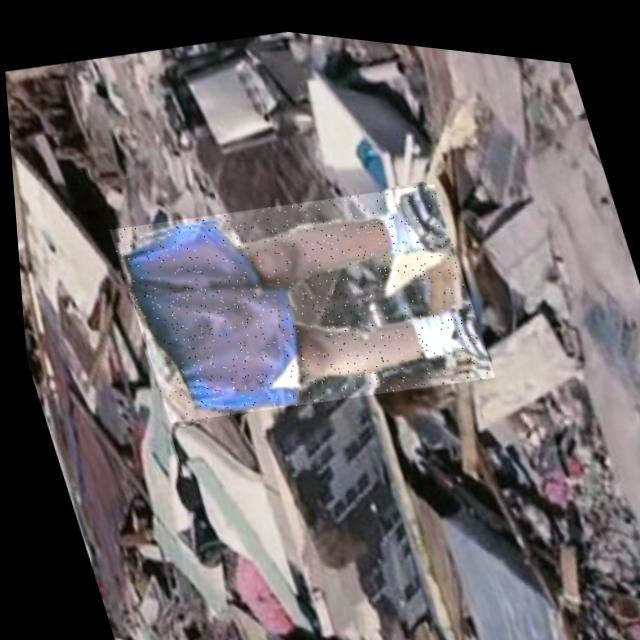Person in Rubble: (100, 144, 494, 448)
